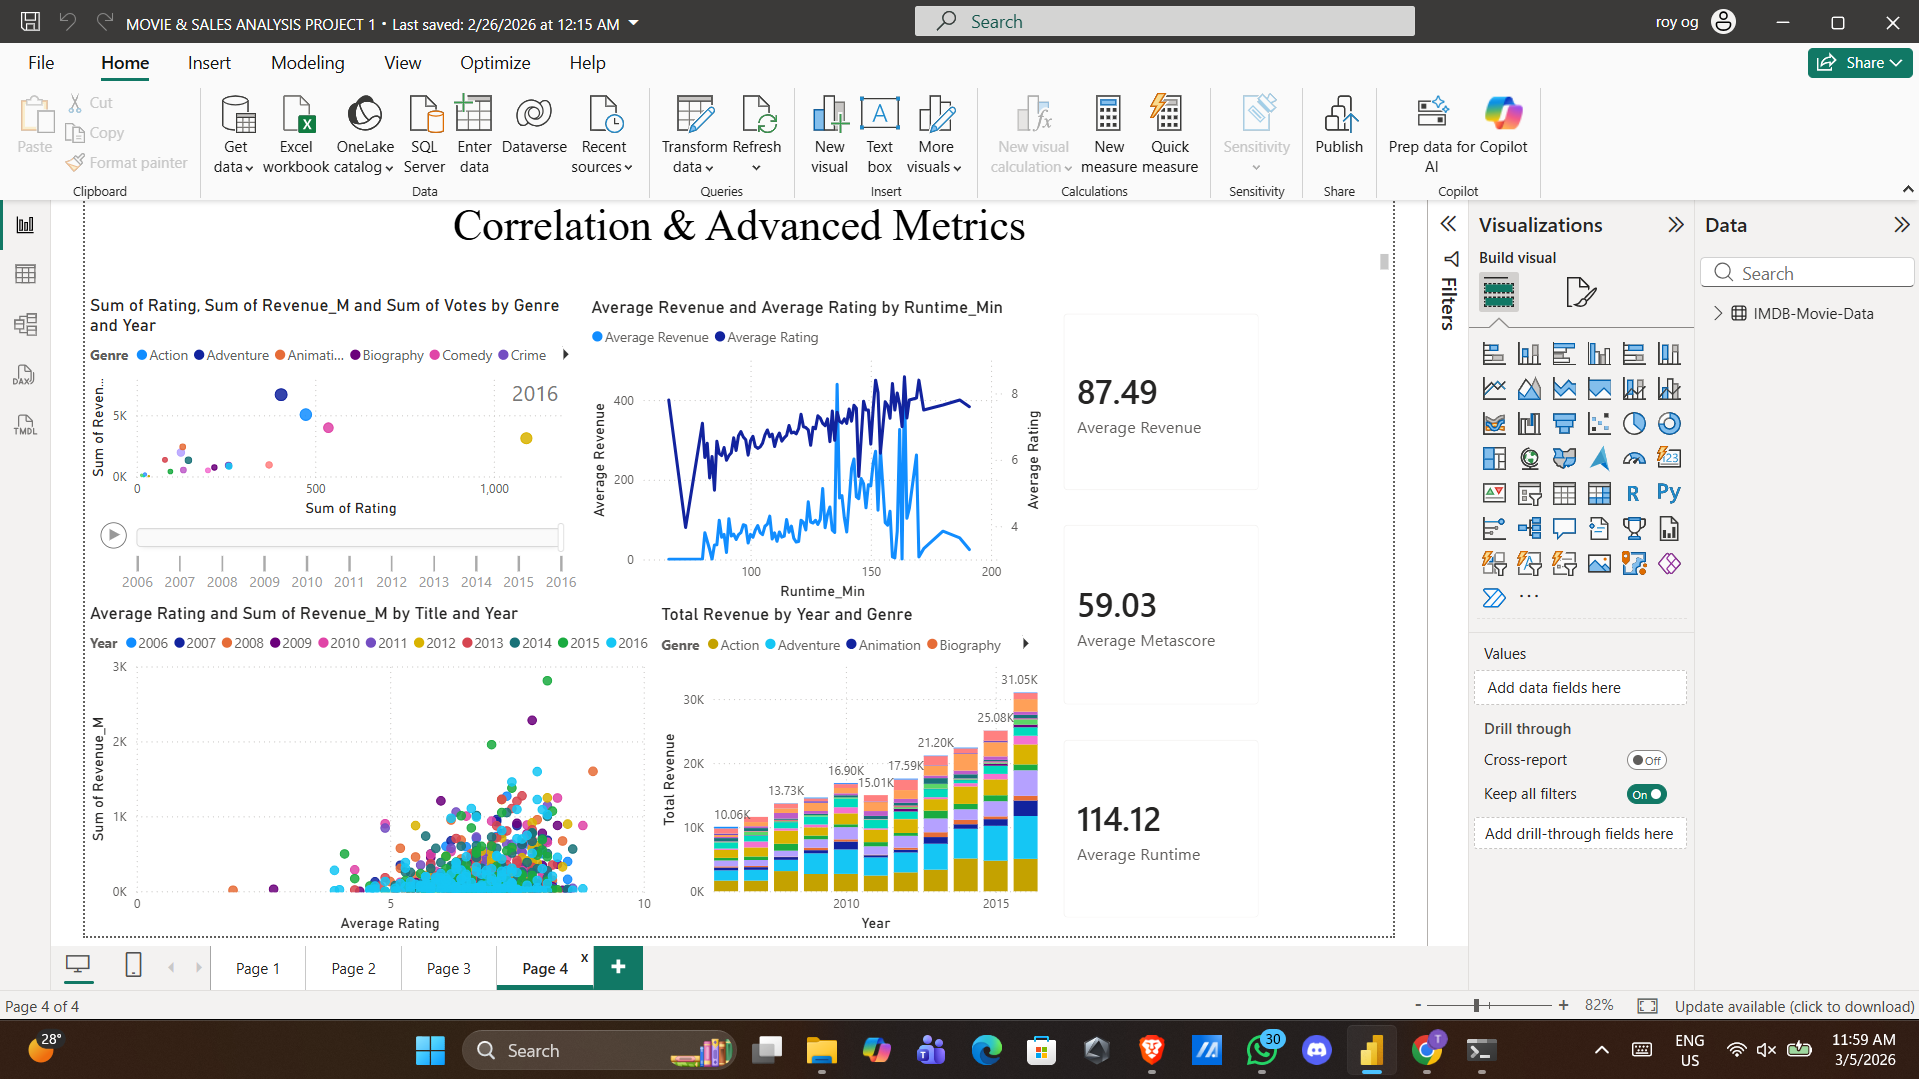

Layout of this report page (visuals, bound fields, positions):
{"tool":"powerbi","page":{"name":"Page 4","canvas":[1280,720],"ordinal":3},"visuals":[{"type":"textbox","title":" Correlation & Advanced Metrics","box":[0,0,1280.3,73.4],"z":0},{"type":"scatterChart","fields":{"X":["Sum(IMDB-Movie-Data.Rating)"],"Y":["Sum(IMDB-Movie-Data.Revenue_M)"],"Series":["IMDB-Movie-Data.Genre"],"Size":["Sum(IMDB-Movie-Data.Votes)"],"Play":["IMDB-Movie-Data.Year"]},"box":[0,92.5,490,301.2],"z":1000},{"type":"lineChart","fields":{"Y":["IMDB-Movie-Data.Average Revenue"],"Y2":["IMDB-Movie-Data.Average Rating"],"Category":["IMDB-Movie-Data.Runtime_Min"]},"box":[490,93.8,450,301.2],"z":2000},{"type":"scatterChart","fields":{"Y":["Sum(IMDB-Movie-Data.Revenue_M)"],"X":["IMDB-Movie-Data.Average Rating"],"Series":["IMDB-Movie-Data.Year"],"Category":["IMDB-Movie-Data.Title"]},"box":[0,393.8,558.8,326.2],"z":3000},{"type":"columnChart","fields":{"Category":["IMDB-Movie-Data.Year"],"Series":["IMDB-Movie-Data.Genre"],"Y":["IMDB-Movie-Data.Total Revenue"]},"box":[558.8,395,381.2,325],"z":4000},{"type":"cardVisual","fields":{"Data":["IMDB-Movie-Data.Average Metascore"]},"box":[940,301.2,225,210],"z":5000},{"type":"cardVisual","fields":{"Data":["IMDB-Movie-Data.Average Runtime"]},"box":[940,511.2,225,208.8],"z":6000},{"type":"cardVisual","fields":{"Data":["IMDB-Movie-Data.Average Revenue"]},"box":[940,93.8,225,207.5],"z":7000}]}

Visuals, with their boxes on the page's 1280x720 design canvas (x1, y1, x2, y2). These are canvas units, not pixel positions in the 1919x1079 screenshot, which may show the page scaled, cropped or inside an application window:
" Correlation & Advanced Metrics" textbox: crop(0, 0, 1280, 73)
scatterChart - Sum(IMDB-Movie-Data.Rating) x Sum(IMDB-Movie-Data.Revenue_M): crop(0, 92, 490, 394)
lineChart - IMDB-Movie-Data.Average Revenue x IMDB-Movie-Data.Average Rating: crop(490, 94, 940, 395)
scatterChart - Sum(IMDB-Movie-Data.Revenue_M) x IMDB-Movie-Data.Average Rating: crop(0, 394, 559, 720)
columnChart - IMDB-Movie-Data.Year x IMDB-Movie-Data.Genre: crop(559, 395, 940, 720)
cardVisual - IMDB-Movie-Data.Average Metascore: crop(940, 301, 1165, 511)
cardVisual - IMDB-Movie-Data.Average Runtime: crop(940, 511, 1165, 720)
cardVisual - IMDB-Movie-Data.Average Revenue: crop(940, 94, 1165, 301)
